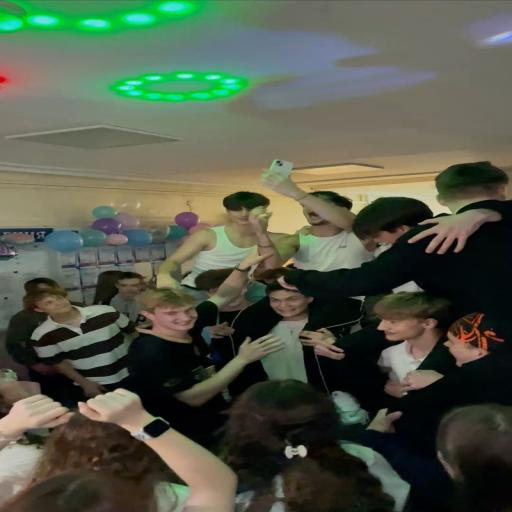hole: (0, 162, 511, 511)
people: (268, 160, 292, 178)
